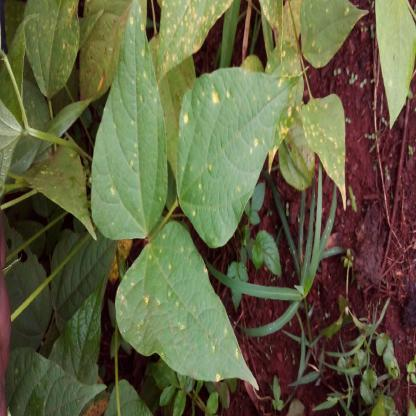Beans_Rust: (113, 225, 259, 389), (176, 67, 300, 246), (95, 0, 168, 236), (154, 0, 234, 79), (20, 0, 81, 94), (302, 100, 350, 210), (299, 0, 368, 68), (370, 21, 416, 110)
